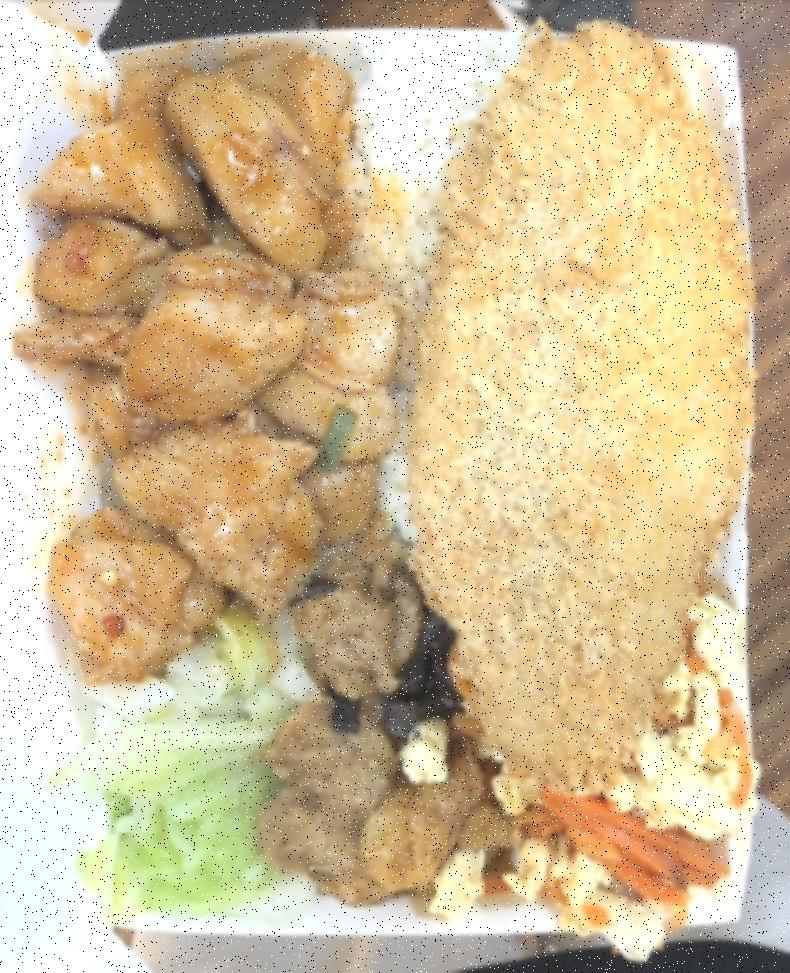box: (39, 10, 775, 950)
fried cod steak: (403, 31, 750, 786)
side dish: (494, 600, 743, 939), (270, 596, 492, 902), (54, 650, 284, 920)
spicy chicken: (43, 48, 404, 686)
white rice: (345, 42, 502, 544)
